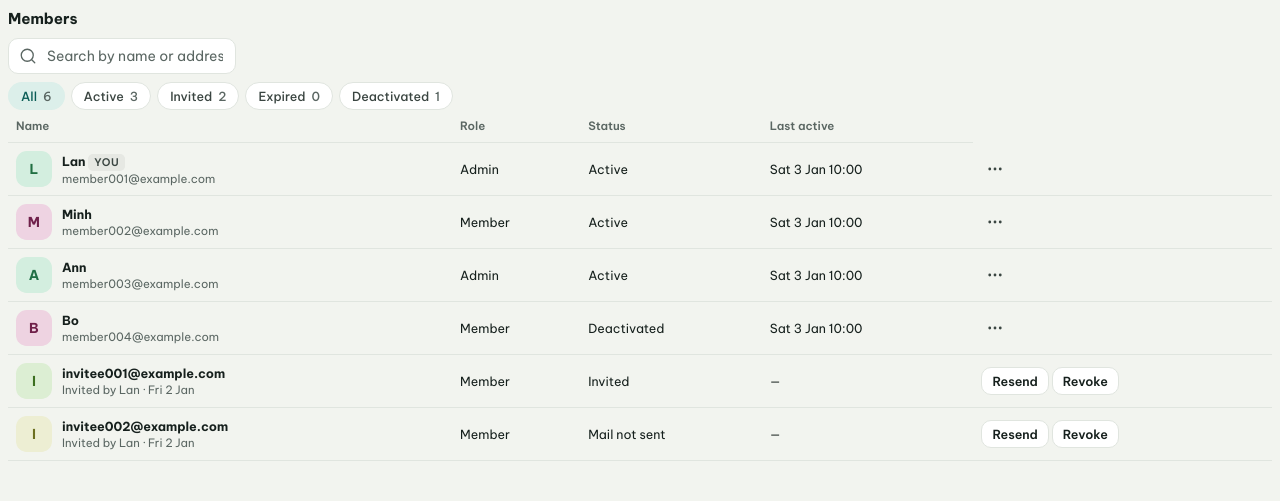
Test case: the menu of an account row (R15, R16, R17) › an active Admin among two: Member is allowed and Admin is the current role
Click the button named "Actions for Ann". click: (995, 275)
box: [981, 261, 1009, 289]
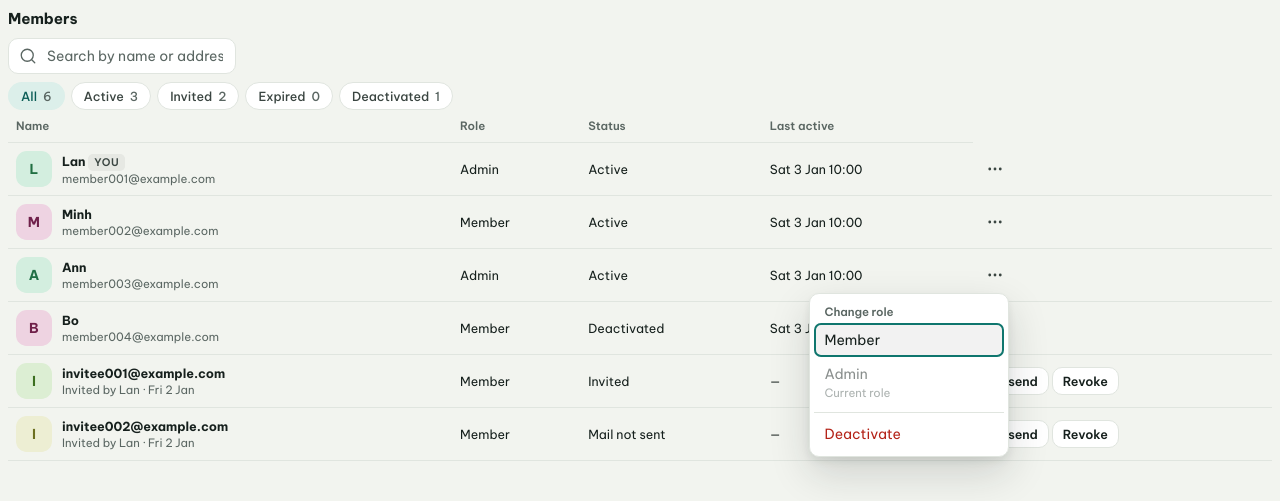
Now the menu item "Admin Current role" is shown, box [814, 357, 1004, 408]
